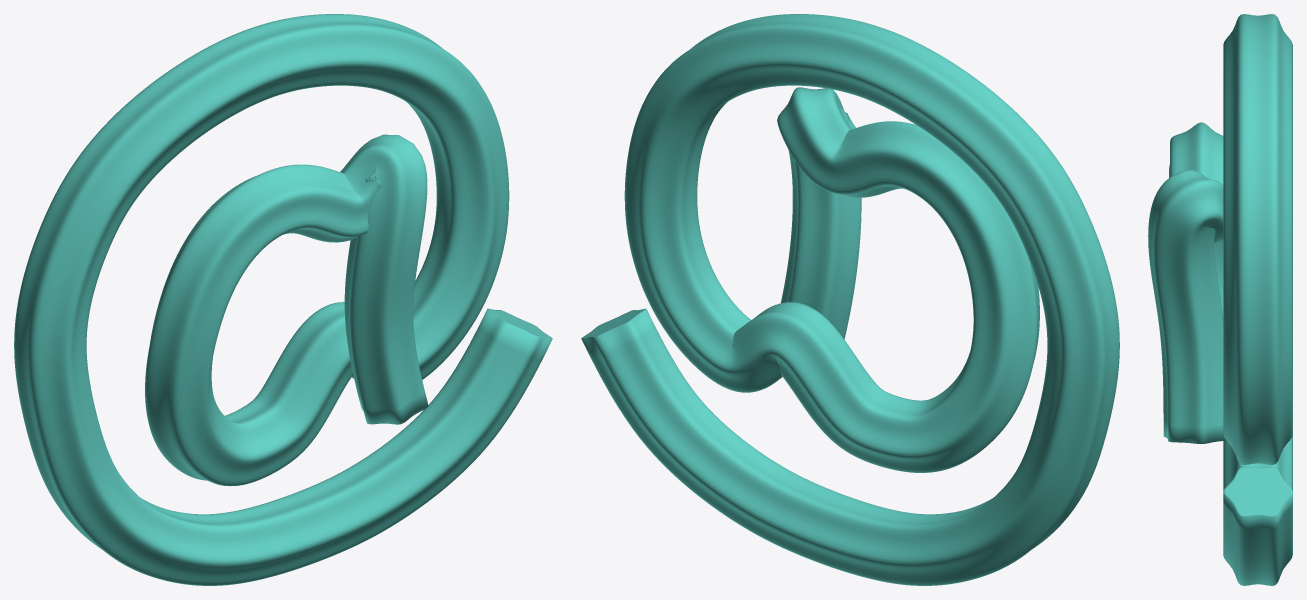
3 renders of one model, left to right at view 1: azimuth 30°, elevation 25°; view 2: azimuth 150°, elevation 25°; view 3: azimuth 270°, elevation 25°, orthographic. The views are drawn at different scales.
Visible parts, largest first — view 1: At; view 2: At; view 3: At.
Boxes of the visible parts, x1=… form: At: x1=14, y1=14, x2=552, y2=585; At: x1=581, y1=14, x2=1119, y2=585; At: x1=1148, y1=14, x2=1292, y2=585.
Bounding box in the file's own units: 2.14 × 2.11 × 0.5361.
